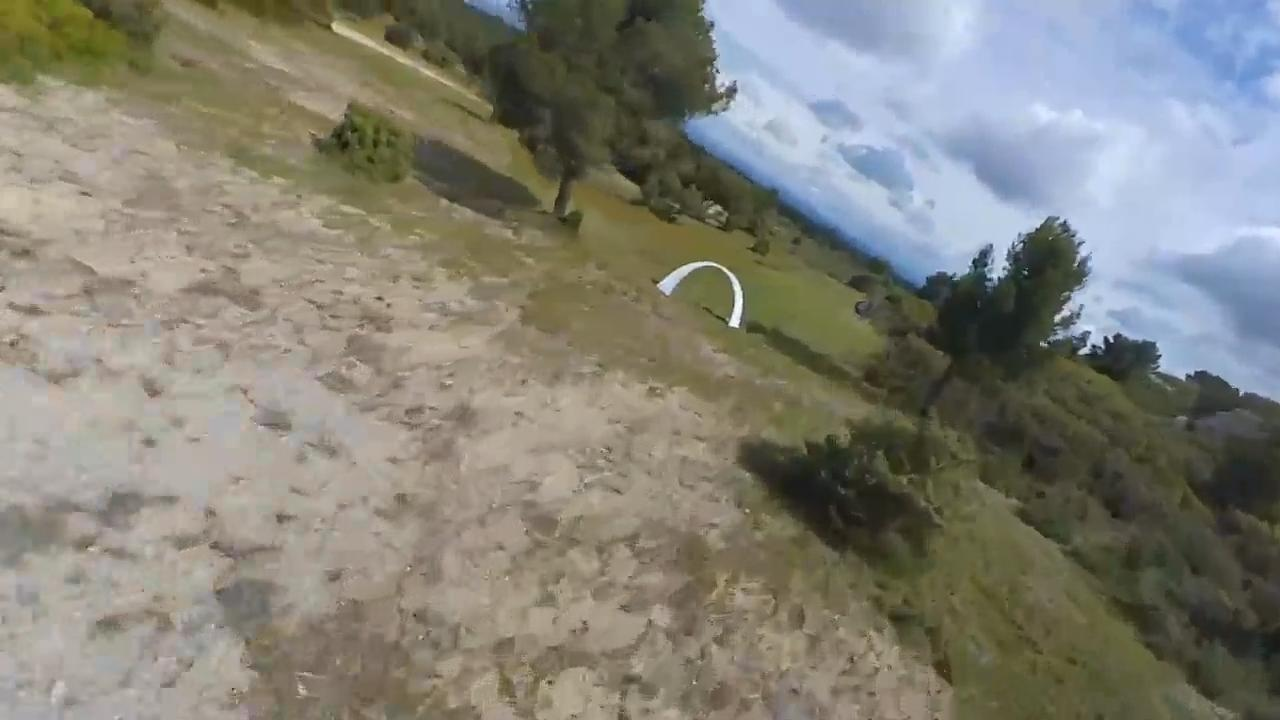gate: (656, 260, 745, 329)
